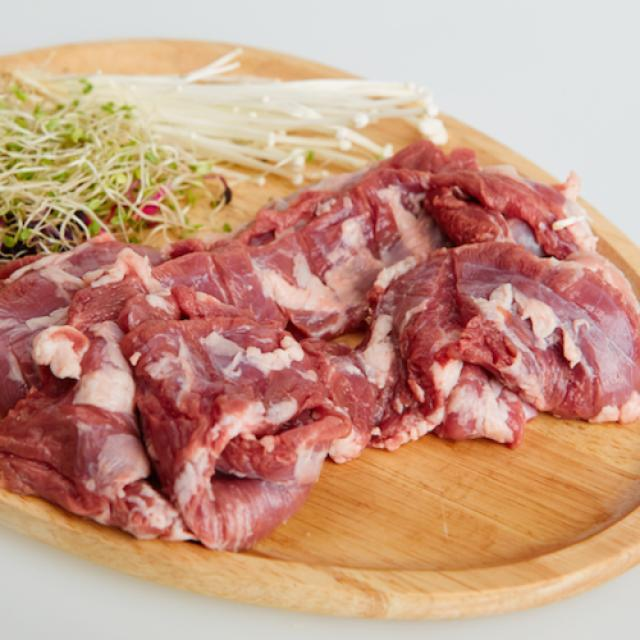pork: (0, 200, 630, 527)
